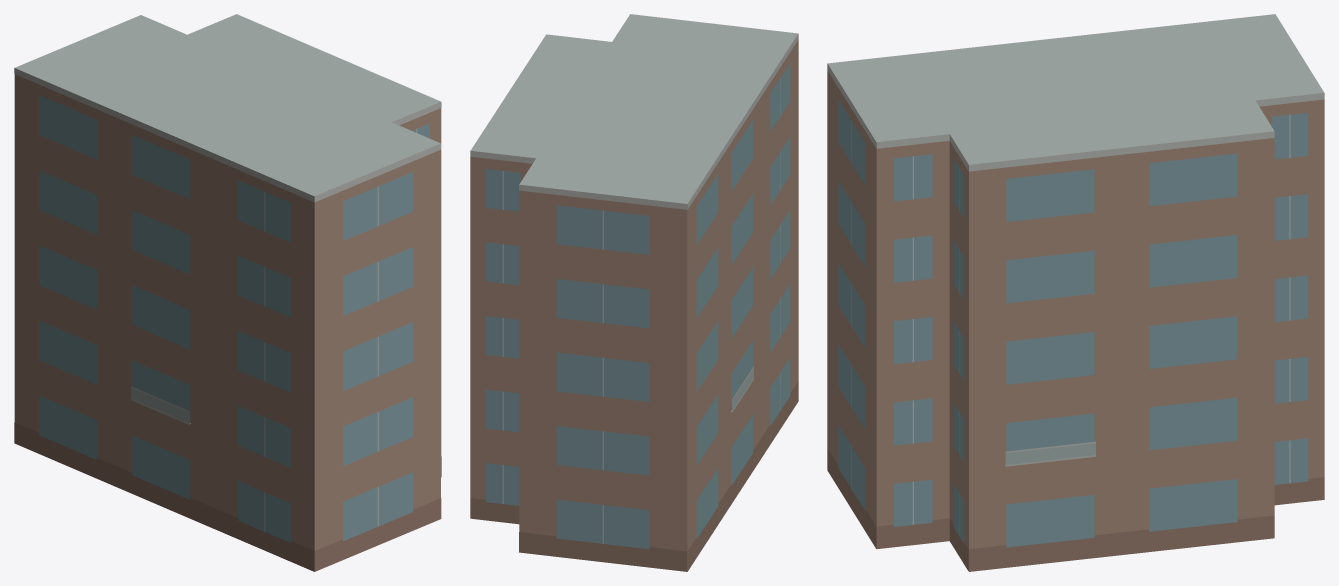
File: survey-upis-32611067.glb
3 renders of one model, left to right at view 1: azimuth 30°, elevation 25°; view 2: azimuth 150°, elevation 25°; view 3: azimuth 270°, elevation 25°, orthographic. The views are drawn at different scales.
Parts seen in each view (by area): view 1: survey-upis-32611067.tmp; view 2: survey-upis-32611067.tmp; view 3: survey-upis-32611067.tmp.
Part boxes in pixels (box(x1,y1,x2,y2)): survey-upis-32611067.tmp: box(14, 14, 441, 571); survey-upis-32611067.tmp: box(470, 14, 798, 571); survey-upis-32611067.tmp: box(827, 14, 1324, 571).
Bounding box in the file's own units: 12.03 × 15.1 × 16.73.
